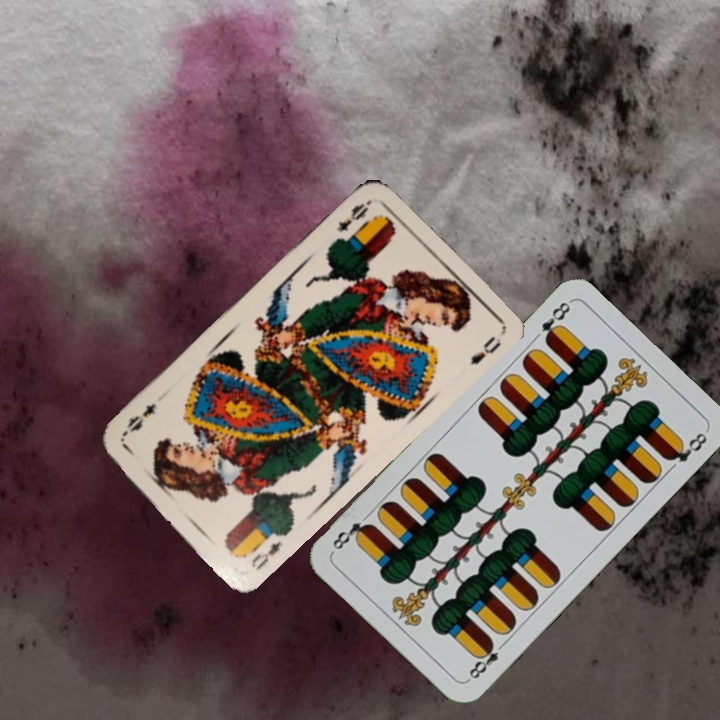E8: (463, 637, 510, 683), (537, 297, 573, 346)
EO: (332, 195, 375, 234), (247, 536, 284, 573)
